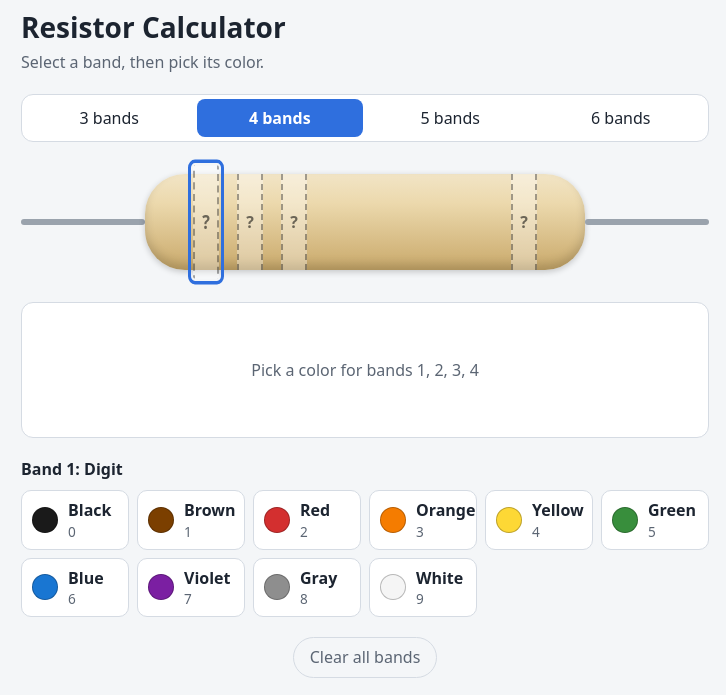
App › keeps keyboard focus in the palette when the picked color is not offered for the next band
Click the button named "Band 3, multiplier" at (294, 222), box [281,174,307,270]
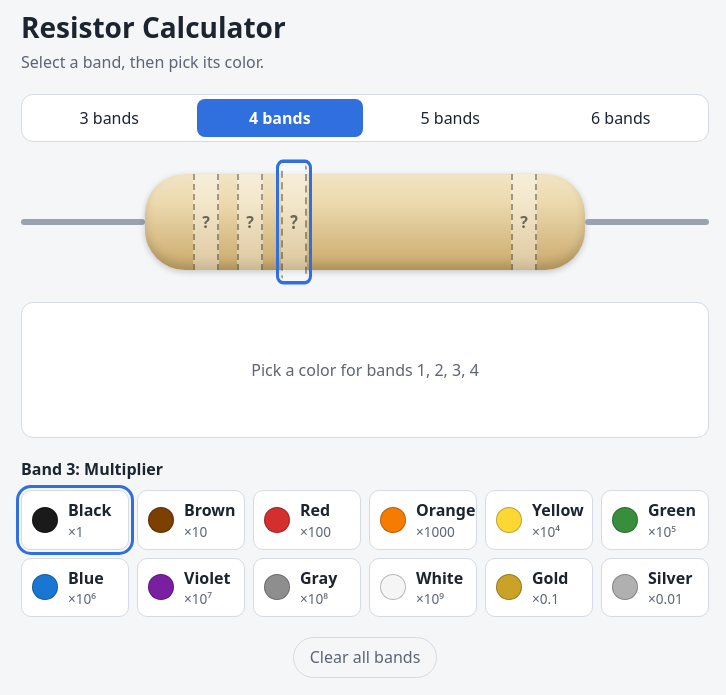
Press Enter
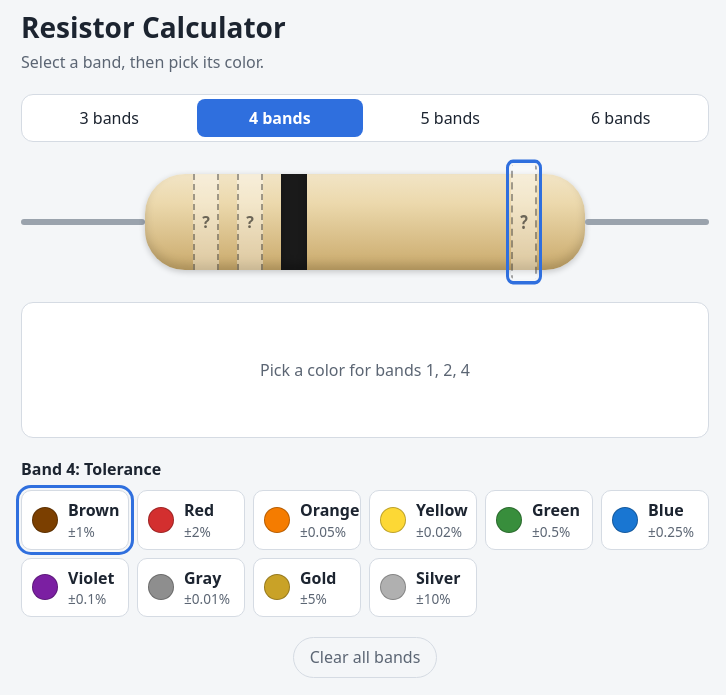
Check: the heading "Band 4: Tolerance" is shown, box [21,458,161,480]
